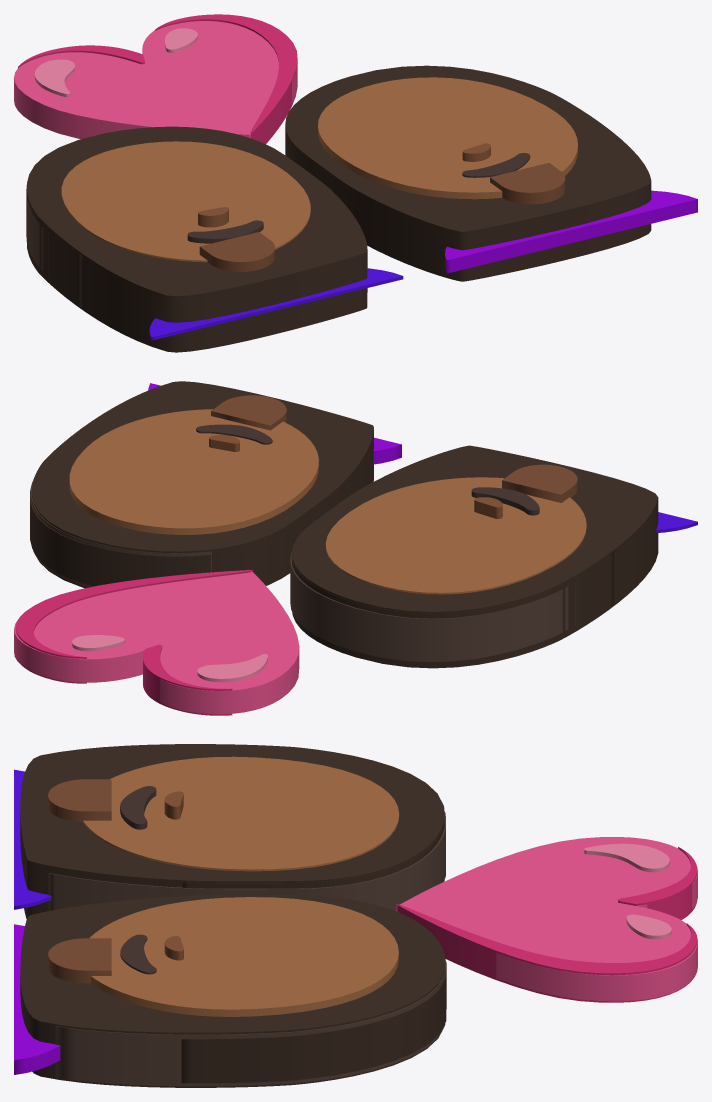
Rendered from emoji_u1f469_1f3fe_200d_2764_200d_1f469_1f3fe.glb.
3 renders of one model, top to bottom at view 1: azimuth 30°, elevation 25°; view 2: azimuth 150°, elevation 25°; view 3: azimuth 270°, elevation 25°, orthographic. The views are drawn at different scales.
Parts seen in each view (by area): view 1: emoji_u1f469_1f3fe_200d_2764_200d_1f469_1f3fe; view 2: emoji_u1f469_1f3fe_200d_2764_200d_1f469_1f3fe; view 3: emoji_u1f469_1f3fe_200d_2764_200d_1f469_1f3fe.
Boxes of the visible parts, <box> form: emoji_u1f469_1f3fe_200d_2764_200d_1f469_1f3fe: <box>14,14,697,352</box>; emoji_u1f469_1f3fe_200d_2764_200d_1f469_1f3fe: <box>14,381,697,715</box>; emoji_u1f469_1f3fe_200d_2764_200d_1f469_1f3fe: <box>14,744,697,1087</box>.
Bounding box in the file's own units: 0.0346 × 0.005 × 0.0337.
